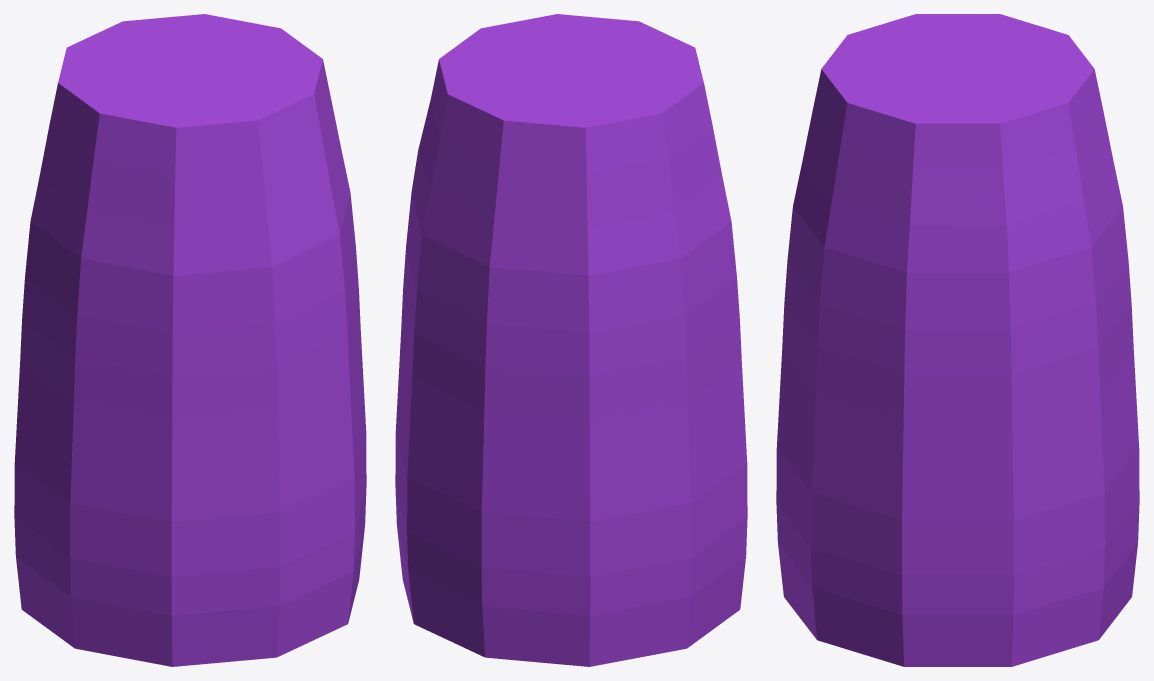
The model's file is Glass_105.fbx.
The picture shows the model from 3 angles, left to right: view 1: azimuth 30°, elevation 25°; view 2: azimuth 150°, elevation 25°; view 3: azimuth 270°, elevation 25°; orthographic projection.
Visible parts, largest first — view 1: Glass_105; view 2: Glass_105; view 3: Glass_105.
Part boxes in pixels (x1,y1,x2,y2): Glass_105: [14, 14, 366, 666]; Glass_105: [395, 14, 747, 666]; Glass_105: [776, 14, 1139, 666].
Size of the model in its own units: 527 by 888 by 554.
